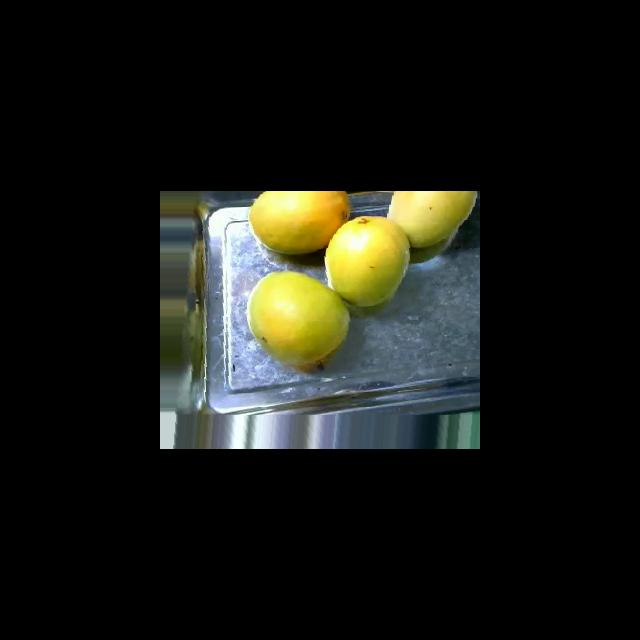mango: (246, 270, 350, 369), (323, 215, 410, 307), (248, 191, 349, 255), (387, 191, 478, 249)
